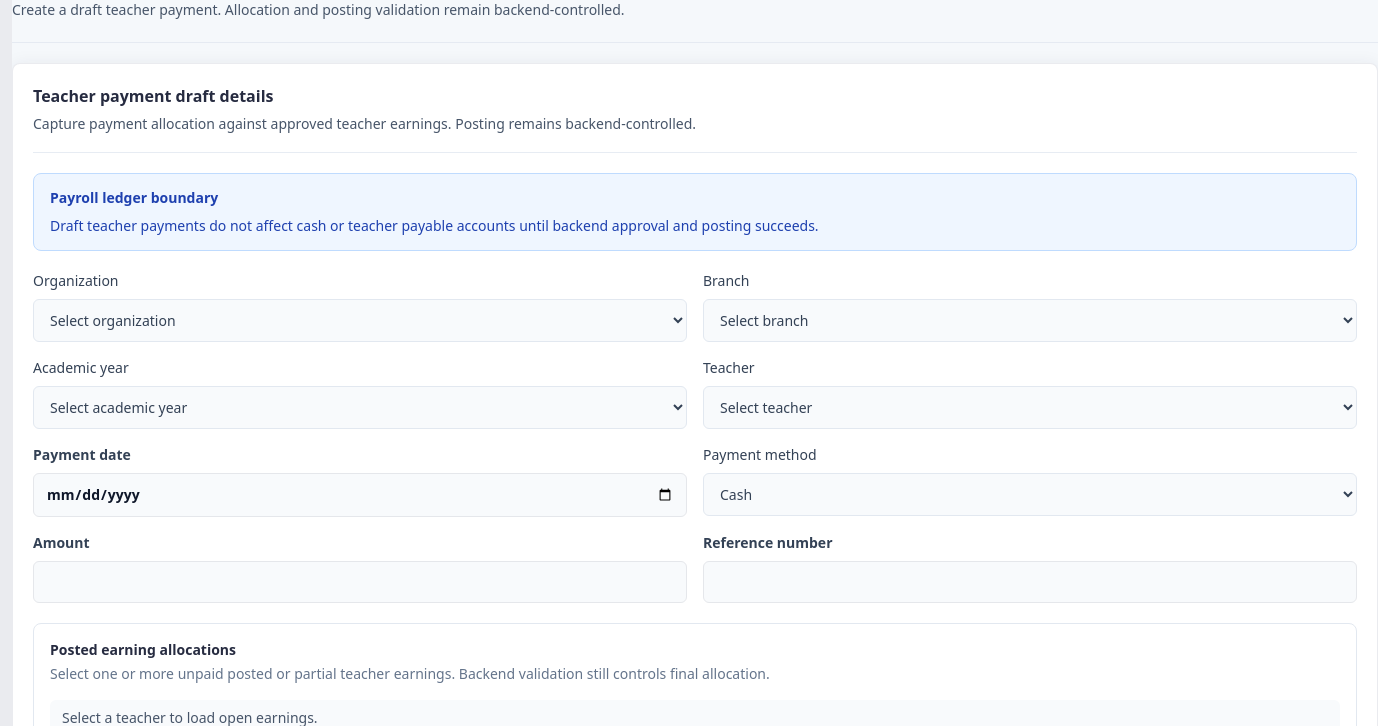
Test: NewTeacherPaymentPage › shows empty state when teacher has no open earnings
Step 1. Select "Ram Sir" in the dropdown labelled "Teacher" → (1030, 408), box [703,386,1357,429]
(page scrolled)
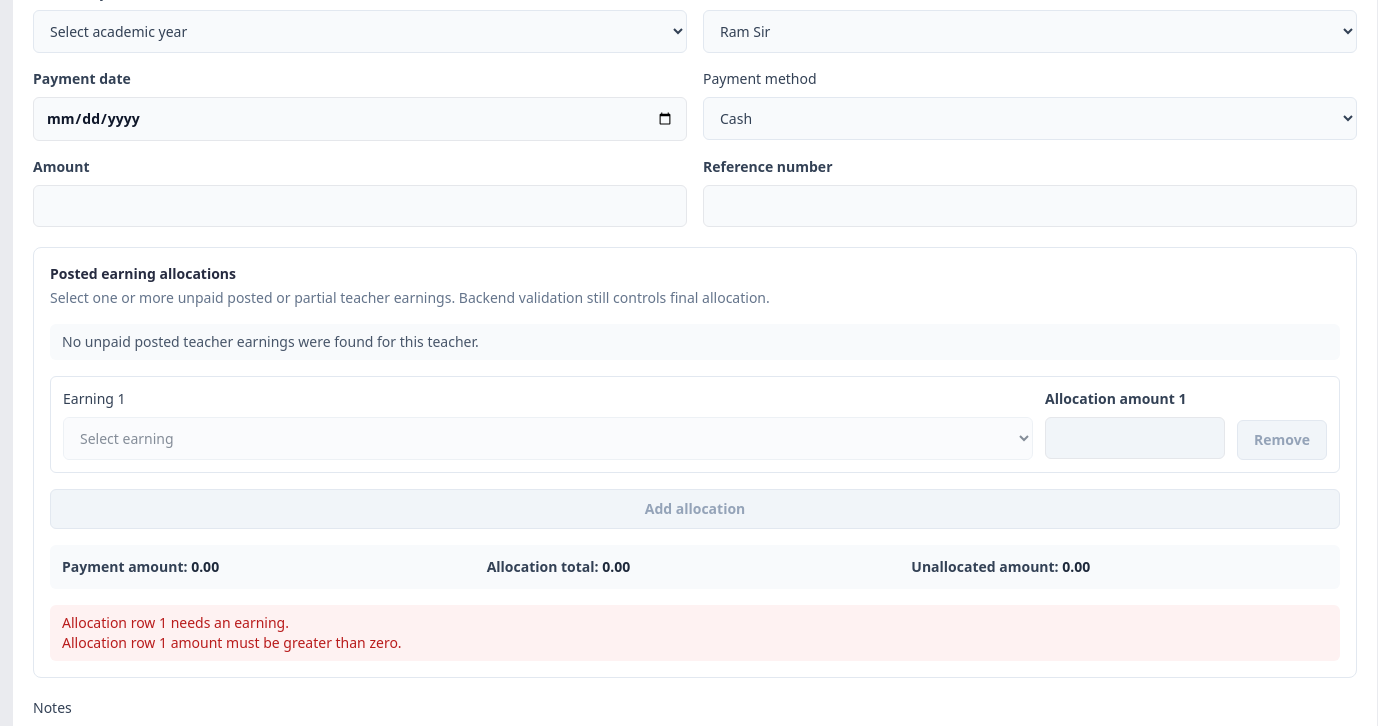
Now the text "No unpaid posted teacher earnings were found" is shown, box [62,332,479,351]
